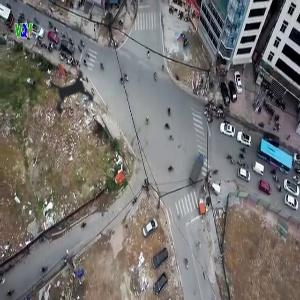drone: (23, 45, 124, 146)
